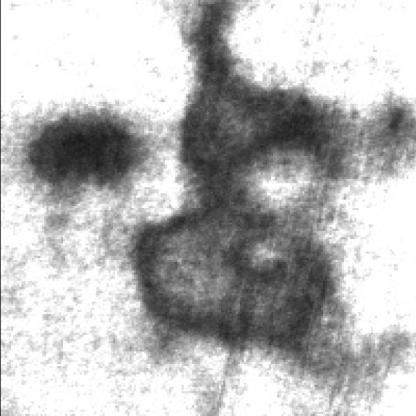patches: (181, 20, 368, 200), (131, 214, 347, 362), (25, 119, 148, 202)
